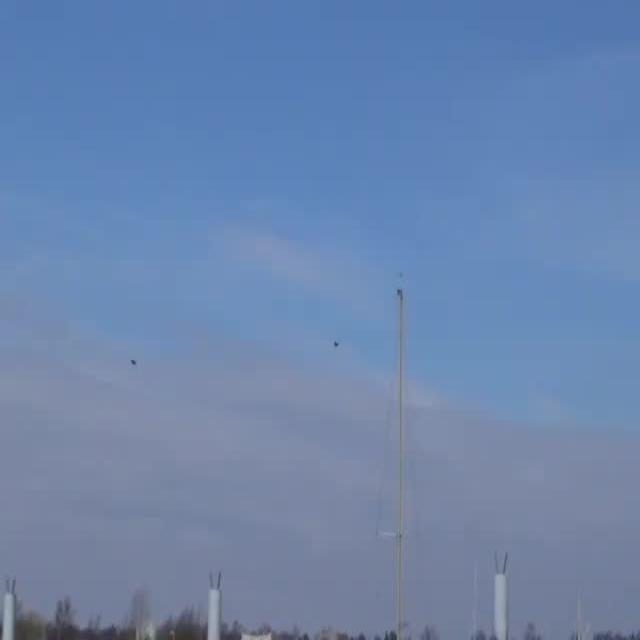bird: (127, 356, 144, 366), (332, 340, 340, 348)
